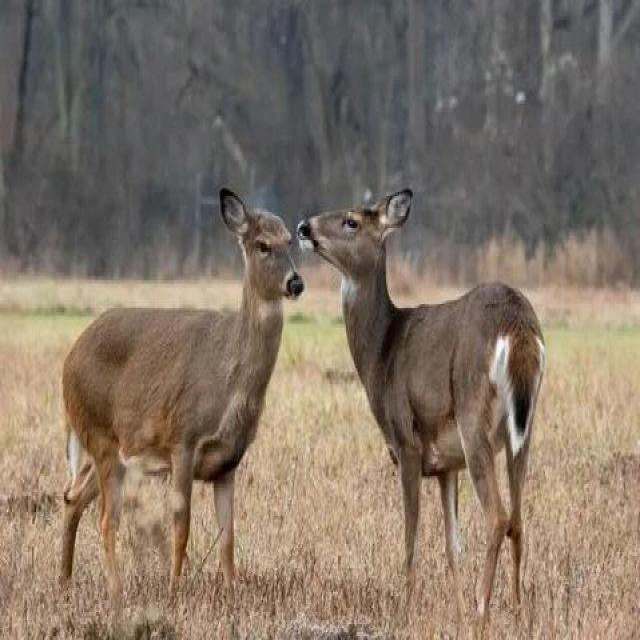deer: (280, 108, 562, 600), (46, 150, 339, 541)
